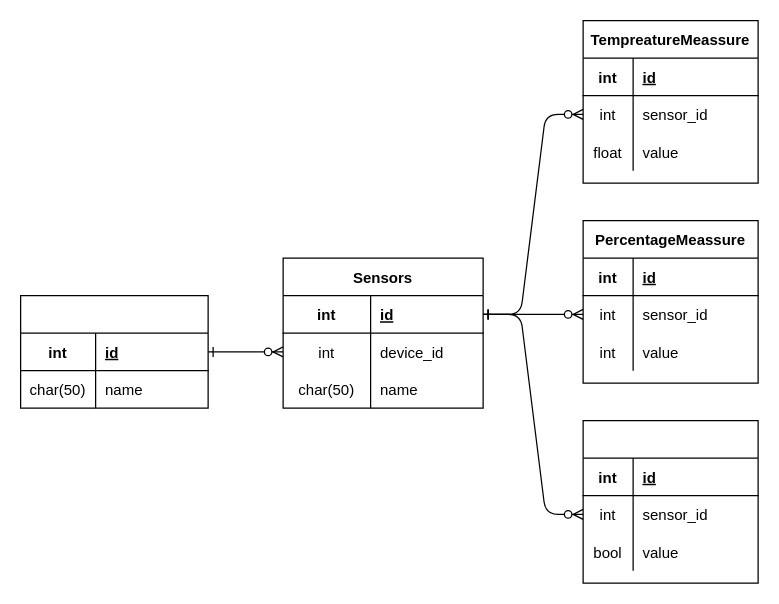
Image size: 779x604. Some labels were removed from this diagram. Each missing label, with the box of its shape:
BoolMeassure: (582, 419, 758, 583)
Devices: (19, 294, 208, 408)
